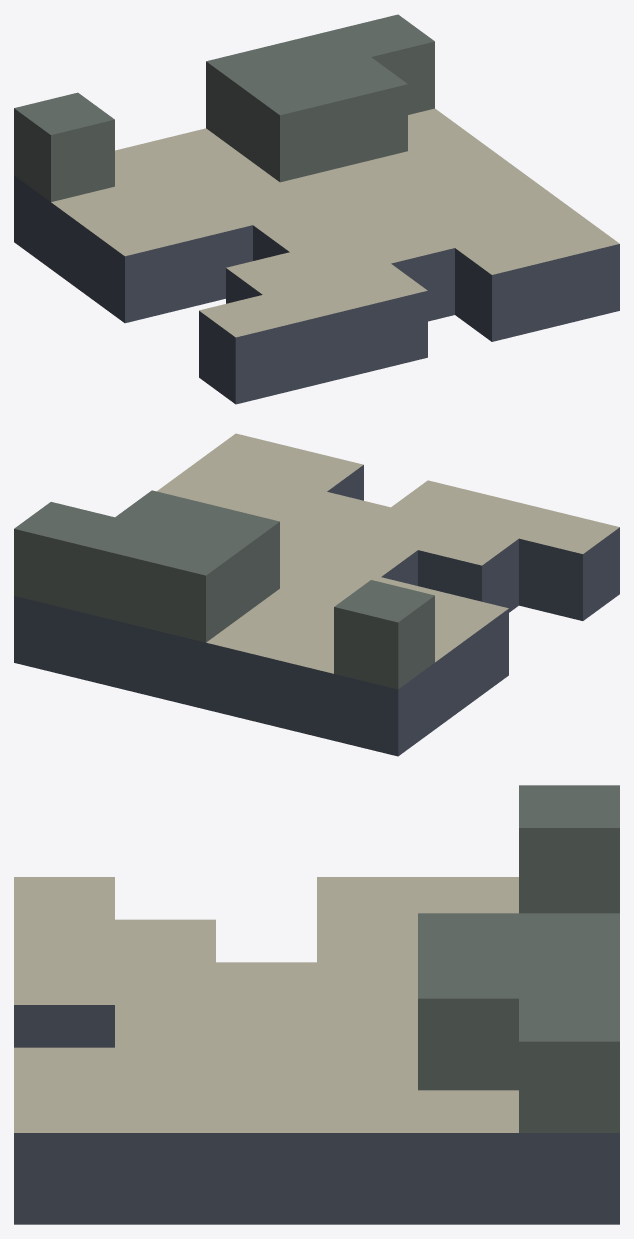
The picture shows the model from 3 angles, top to bottom: view 1: azimuth 30°, elevation 25°; view 2: azimuth 150°, elevation 25°; view 3: azimuth 270°, elevation 25°; orthographic projection. The views are drawn at different scales.
Visible parts, largest first — view 1: 1.2; view 2: 1.2; view 3: 1.2.
Part boxes in pixels (x1=…): 1.2: x1=14, y1=14, x2=619, y2=404; 1.2: x1=14, y1=433, x2=619, y2=756; 1.2: x1=14, y1=785, x2=619, y2=1224.
Size of the model in its own units: 600 by 200 by 600.
